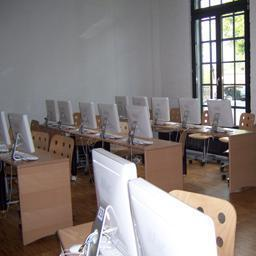Puerta: (196, 15, 249, 124)
